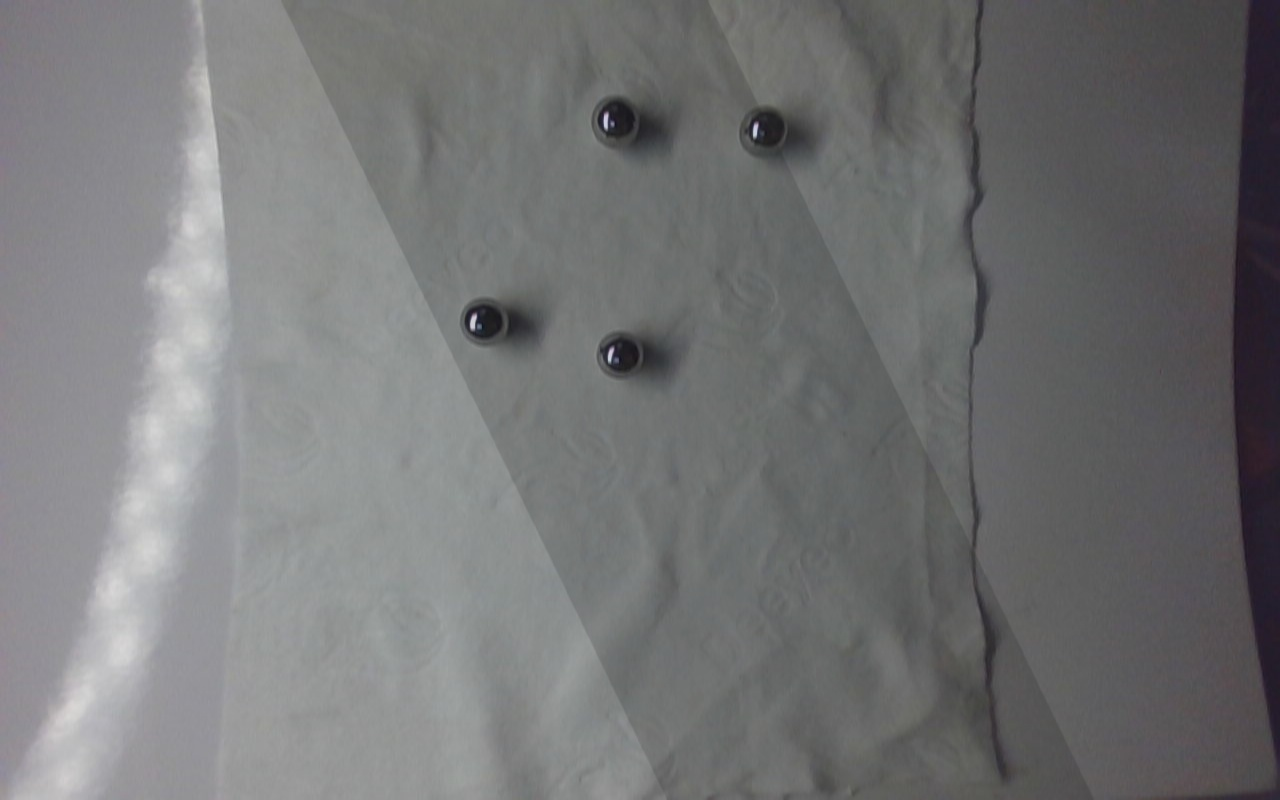ball: (587, 88, 647, 155), (736, 99, 793, 161), (458, 293, 513, 353), (594, 324, 647, 380)
